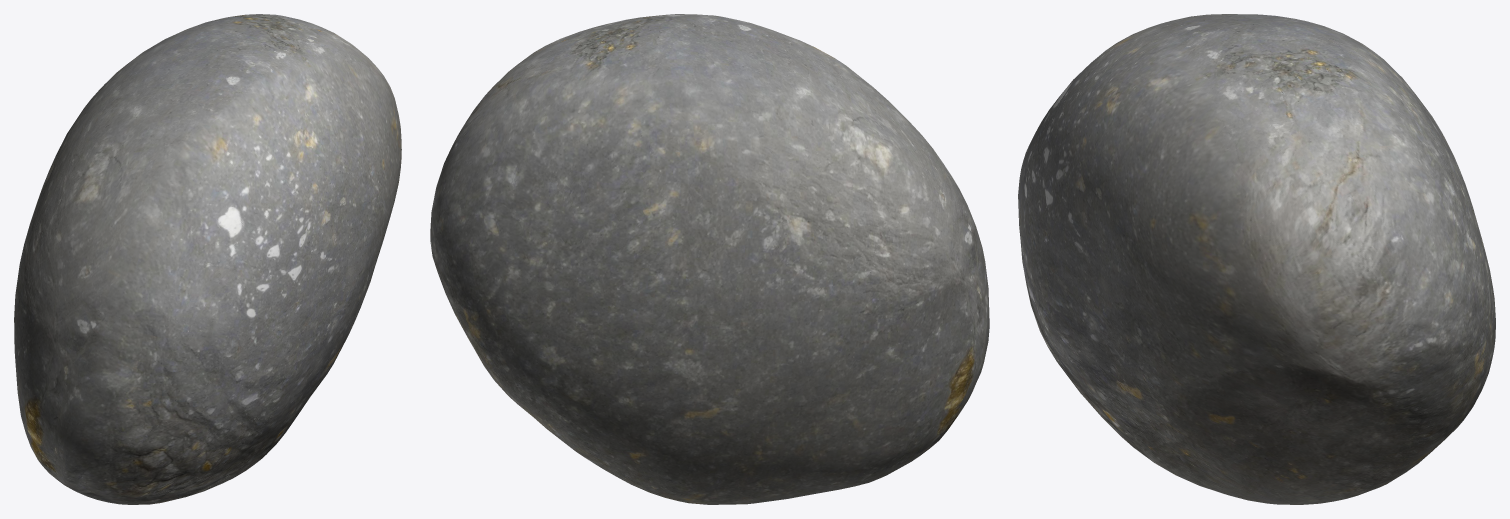
3 views of the same model, side by side, from view 1: azimuth 30°, elevation 25°; view 2: azimuth 150°, elevation 25°; view 3: azimuth 270°, elevation 25° (orthographic). The views are drawn at different scales.
Visible parts, largest first — view 1: Mesh1; view 2: Mesh1; view 3: Mesh1.
Part boxes in pixels (x1,y1,x2,y2): Mesh1: (14, 14, 401, 504); Mesh1: (430, 14, 989, 504); Mesh1: (1018, 14, 1495, 504).
Bounding box in the file's own units: 200 × 194 × 172.
1 material, 1 textured.
